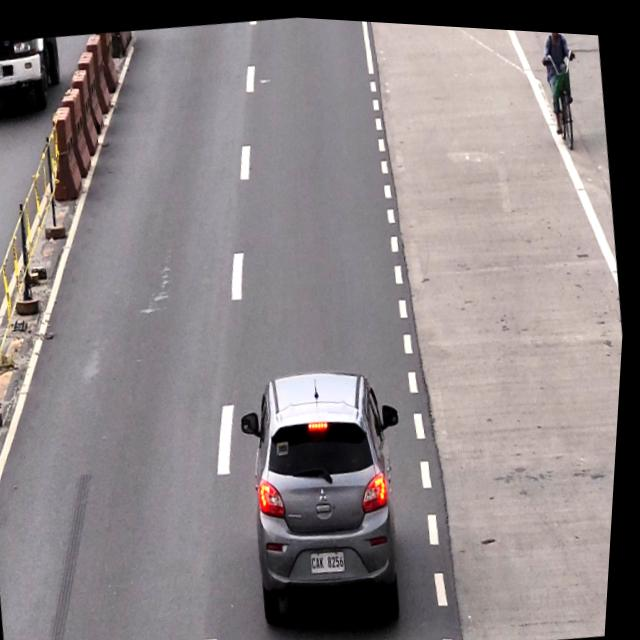Car: (240, 356, 426, 632)
License-Plate: (316, 544, 356, 574)
